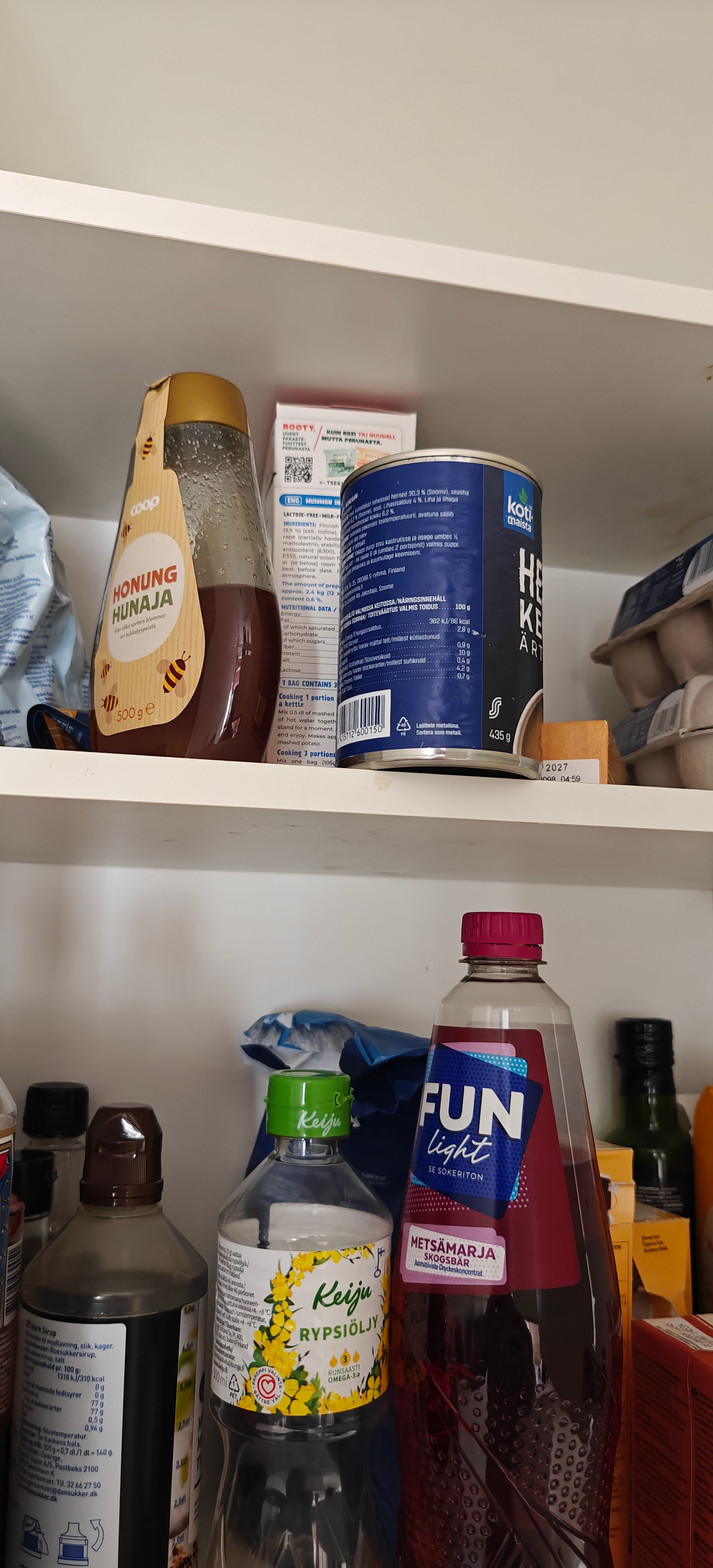Konservburk: (336, 448, 544, 779)
